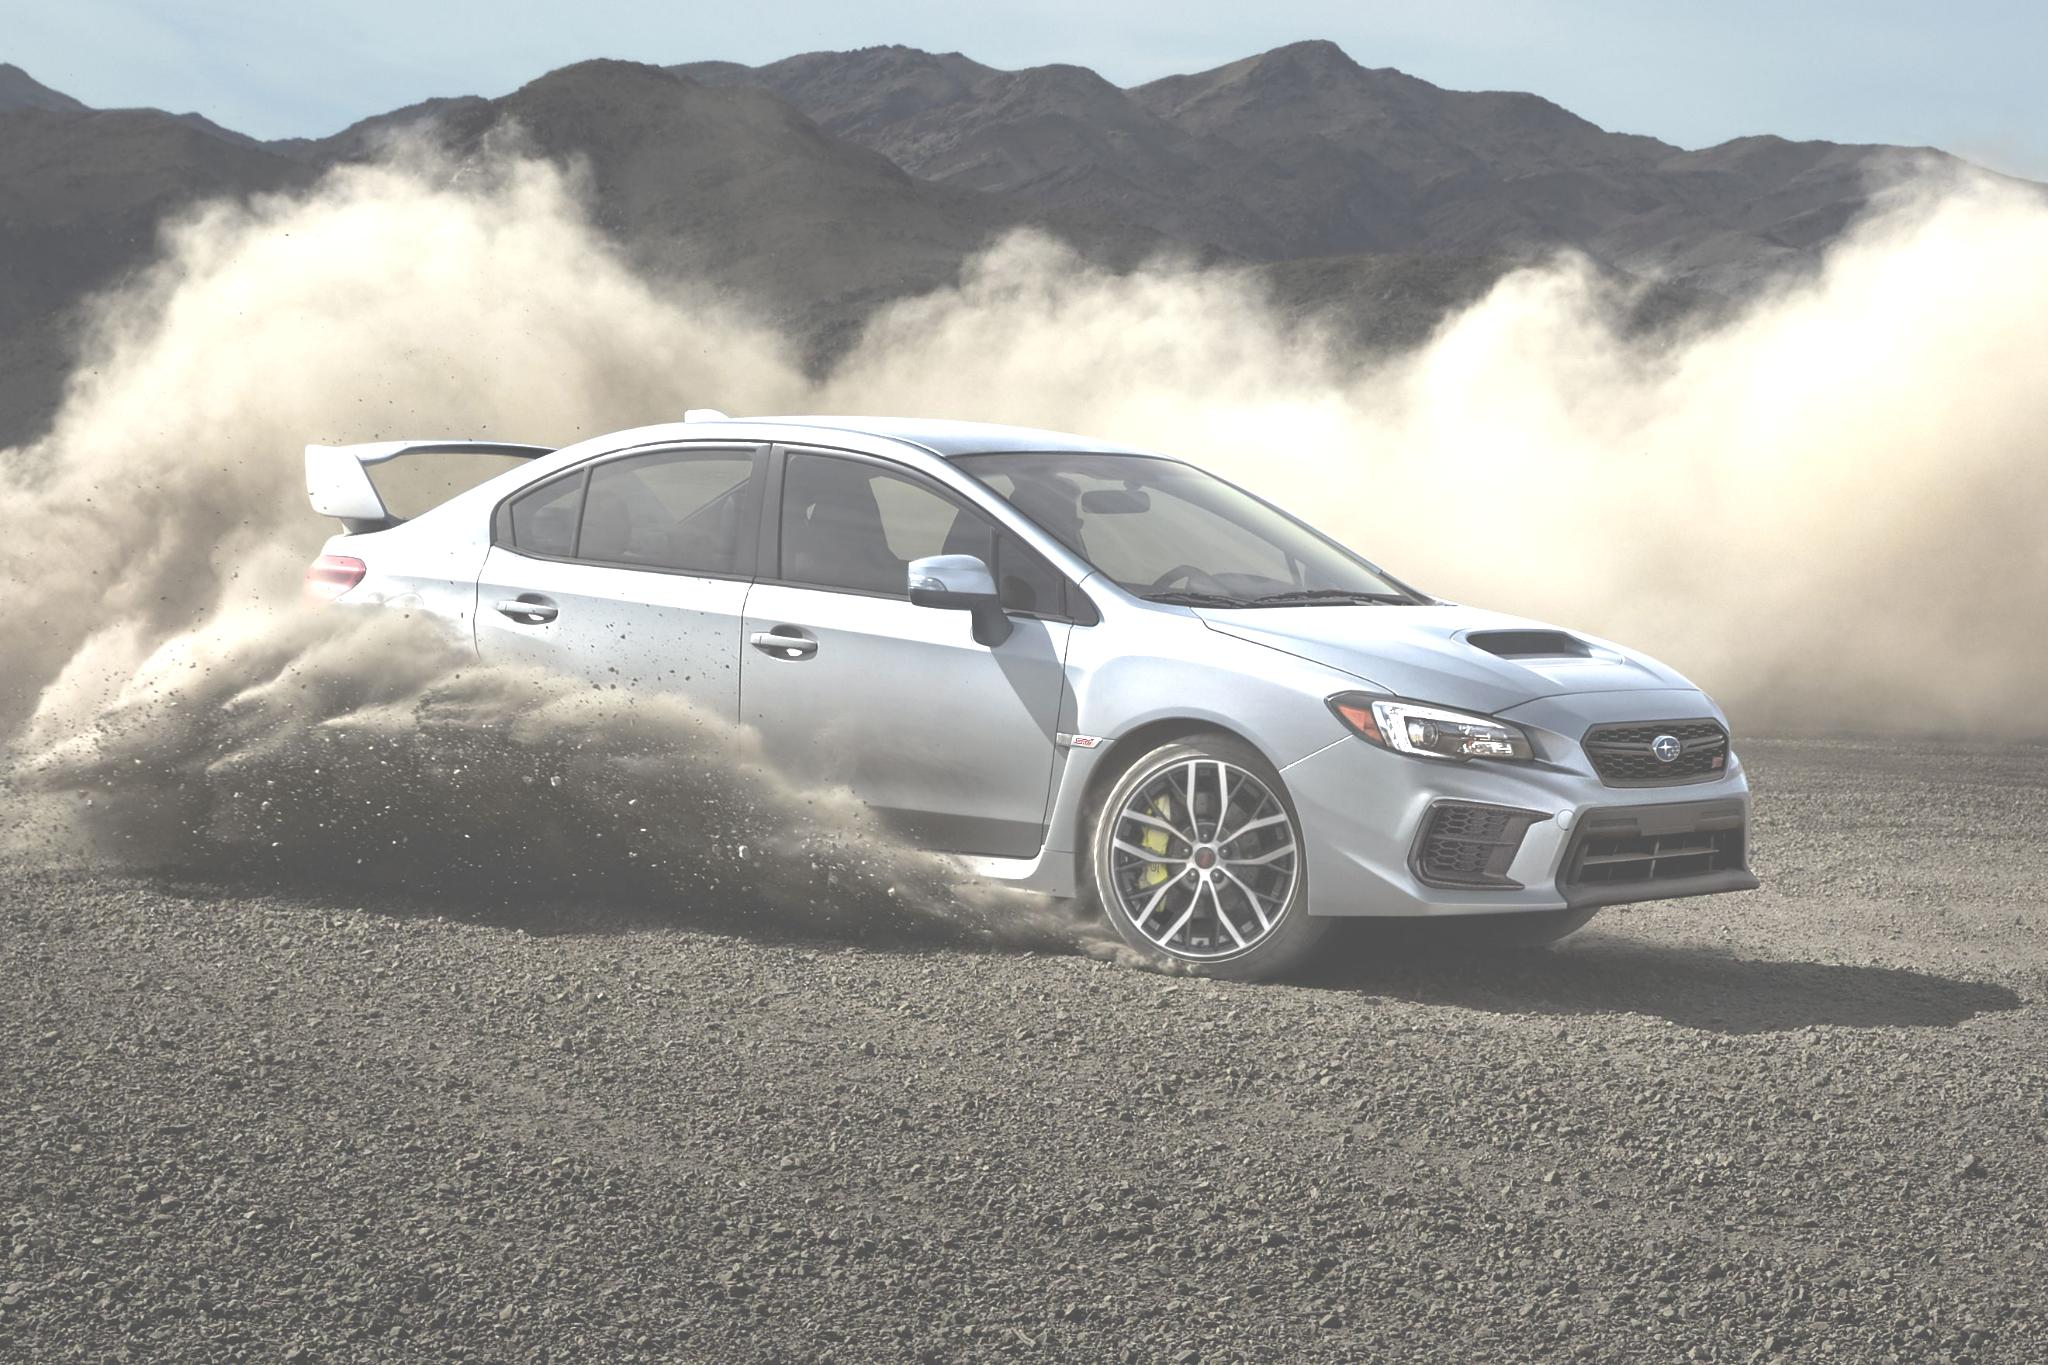subaru: (1646, 728, 1695, 774)
